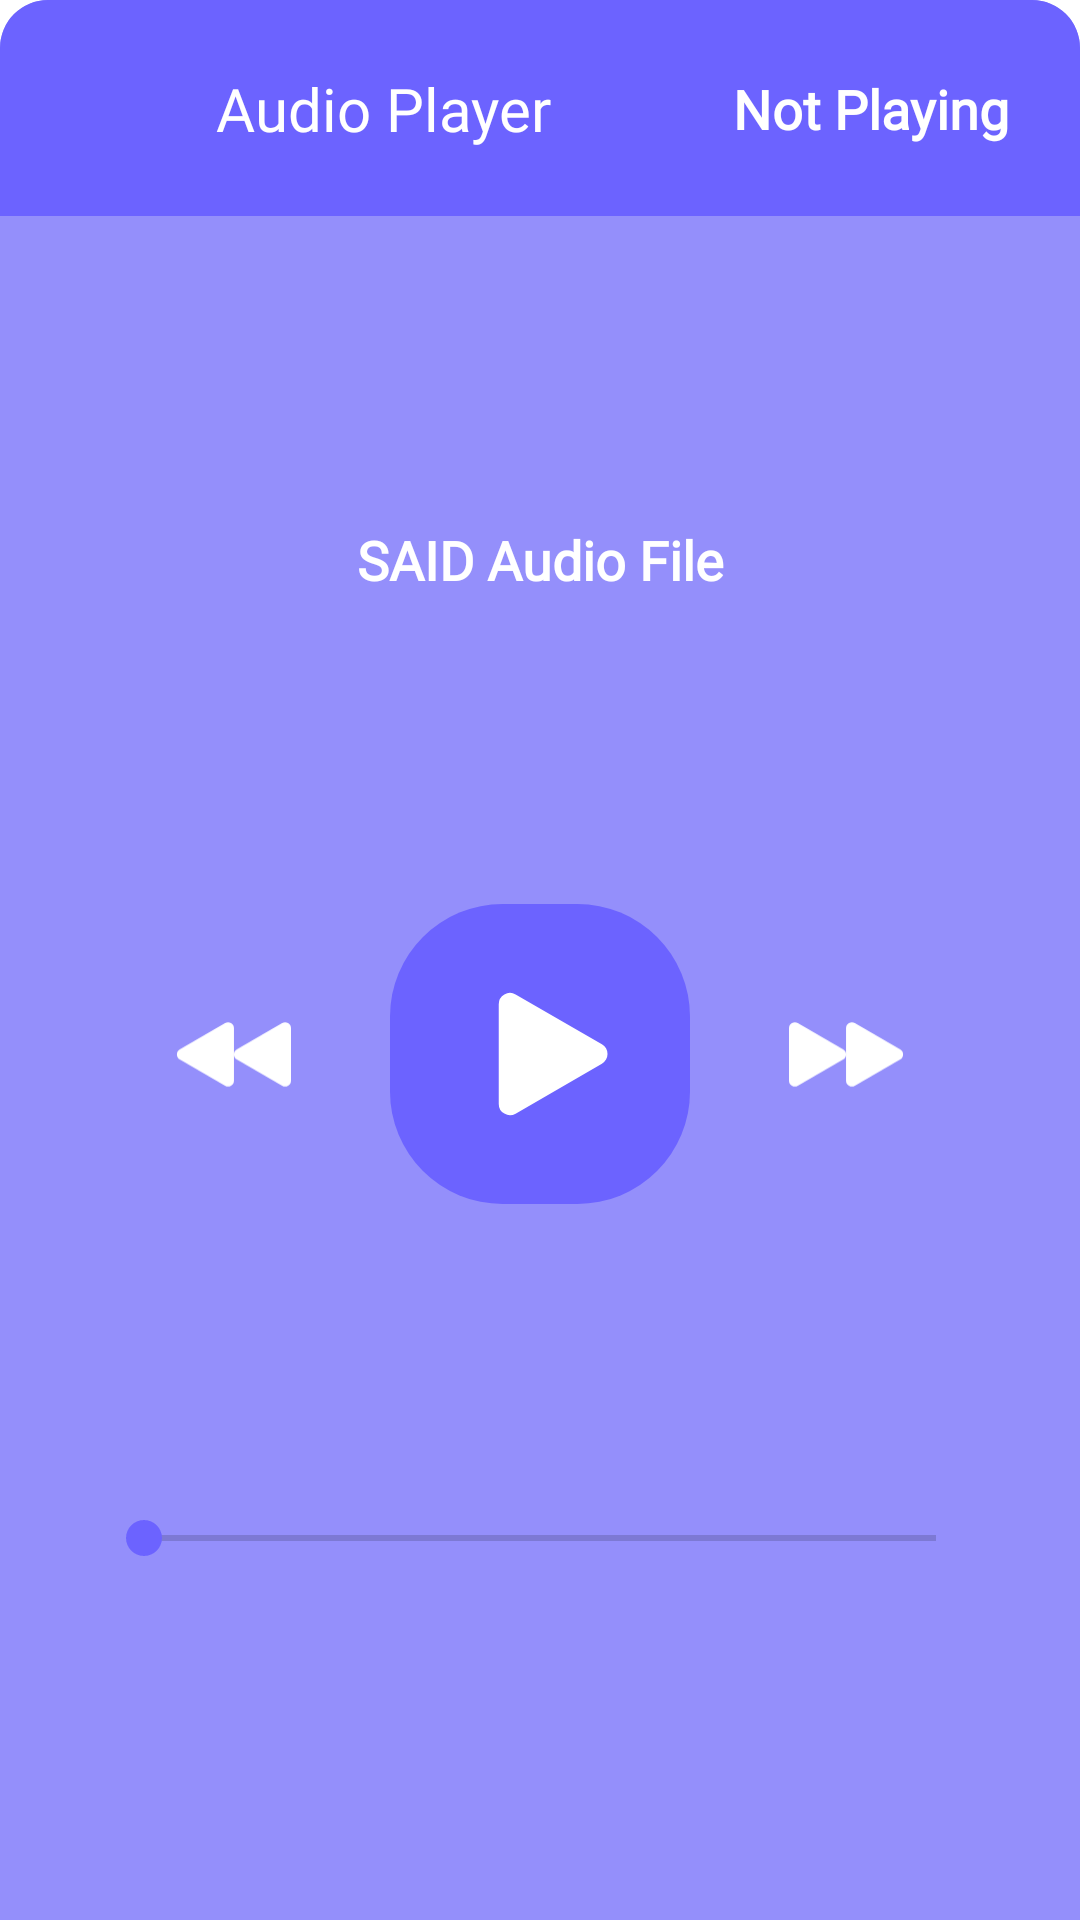

Named icons in this screenshot (1080 x 1920) and their centers, point (x, y):
audio next: point (846, 1054)
audio play: point (540, 1054)
audio previous: point (234, 1054)
